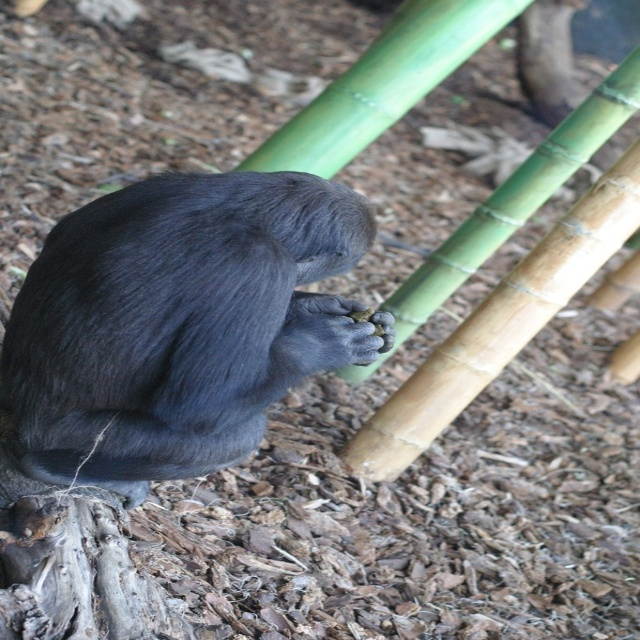Monkey: (0, 168, 403, 505)
